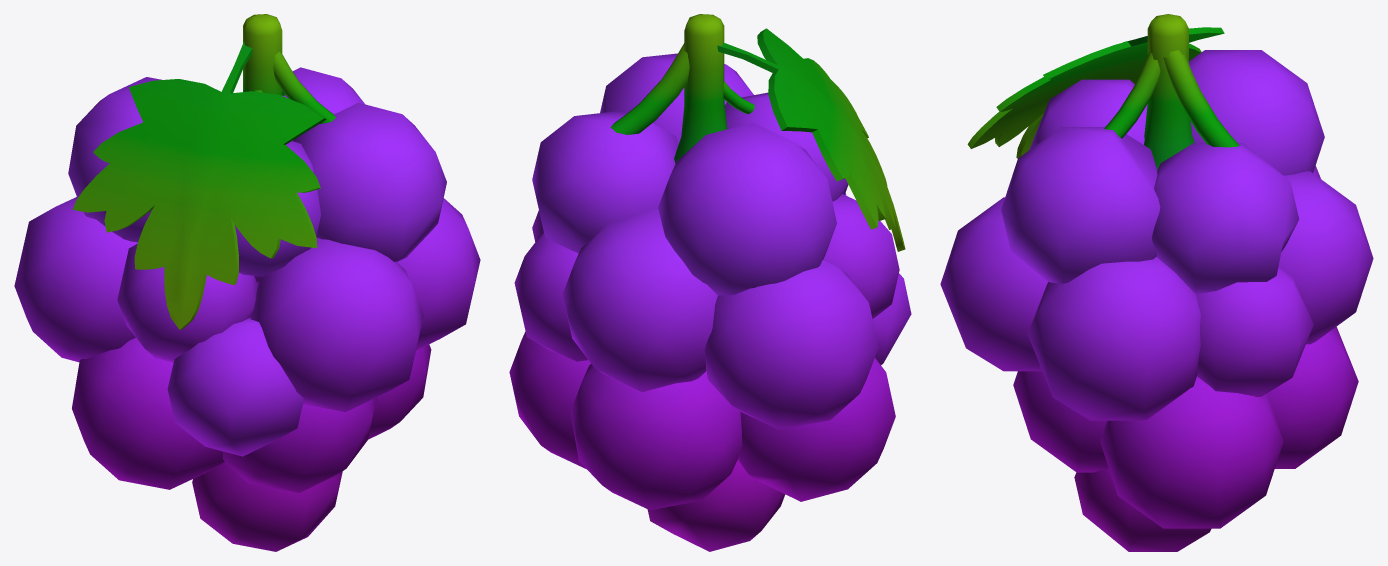
The model's file is Grape.fbx.
3 renders of one model, left to right at view 1: azimuth 30°, elevation 25°; view 2: azimuth 150°, elevation 25°; view 3: azimuth 270°, elevation 25°, orthographic.
Parts seen in each view (by area): view 1: Grape; view 2: Grape; view 3: Grape.
Part boxes in pixels (x1,y1,x2,y2): Grape: (14, 14, 480, 551); Grape: (509, 14, 911, 551); Grape: (940, 14, 1373, 551).
Size of the model in its own units: 1.47 by 1.95 by 1.44.
1 material, 1 textured.
